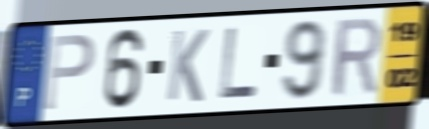6: (101, 26, 145, 112)
9: (279, 17, 327, 102)
K: (164, 27, 211, 105)
L: (217, 26, 260, 102)
P: (41, 32, 97, 114)
R: (330, 15, 383, 101)
